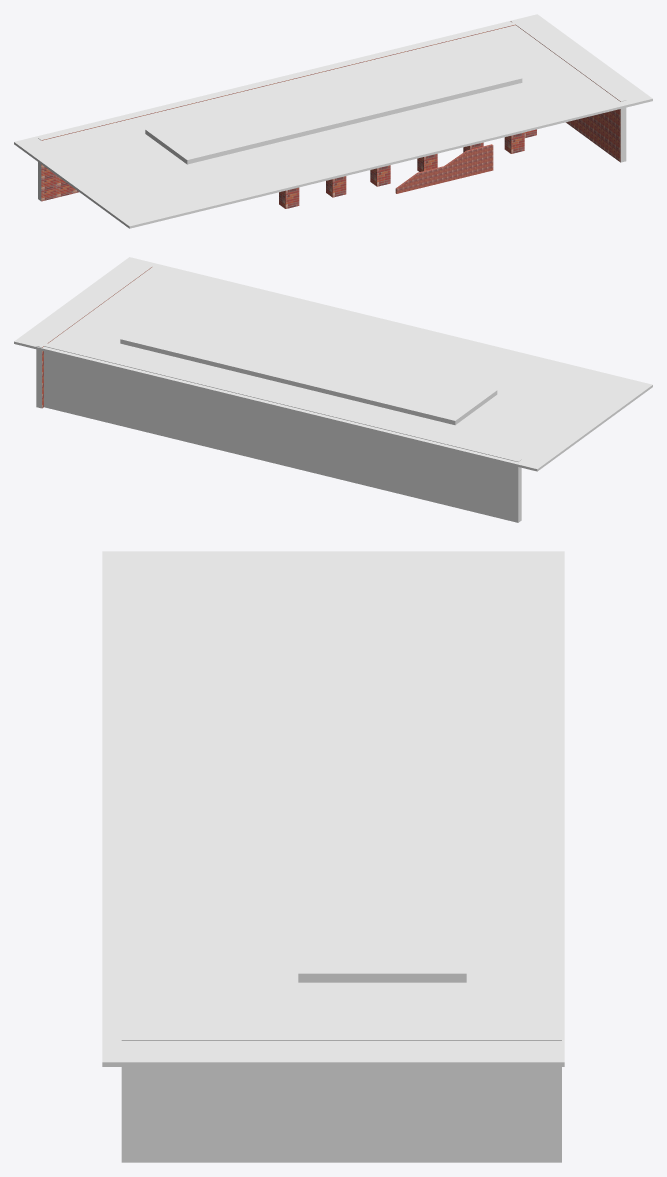
Rendered from pared1.obj.
3 views of the same model, one above another, from view 1: azimuth 30°, elevation 25°; view 2: azimuth 150°, elevation 25°; view 3: azimuth 270°, elevation 25° (orthographic). The views are drawn at different scales.
Parts seen in each view (by area): view 1: pCube18, pCube17, pCube13, pCube14, pPlane11, escenario:pPlane18 escenario:polySurface1 group polySurface8, escenario:pPlane17 escenario:polySurface1 group polySurface7, escenario:pPlane16 escenario:polySurface1 group polySurface6, escenario:pPlane13 escenario:polySurface1 group polySurface3; view 2: pCube18, pCube13, pCube17, pCube14; view 3: pCube18, pCube17, pCube14, pCube13.
Part boxes in pixels (box(x1,y1,x2,y2)): pCube18: box(14, 14, 652, 228); pCube17: box(145, 48, 522, 164); pCube13: box(38, 22, 515, 201); pCube14: box(510, 19, 626, 162); pPlane11: box(395, 144, 493, 193); escenario:pPlane18 escenario:polySurface1 group polySurface8: box(279, 187, 299, 208); escenario:pPlane17 escenario:polySurface1 group polySurface7: box(326, 176, 346, 197); escenario:pPlane16 escenario:polySurface1 group polySurface6: box(370, 165, 390, 186); escenario:pPlane13 escenario:polySurface1 group polySurface3: box(504, 132, 524, 153); pCube18: box(14, 257, 652, 471); pCube13: box(43, 343, 521, 522); pCube17: box(120, 308, 497, 425); pCube14: box(36, 265, 151, 408); pCube18: box(102, 551, 564, 1066); pCube17: box(298, 646, 466, 982); pCube14: box(121, 1034, 561, 1162); pCube13: box(541, 571, 554, 1035).
Size of the model in its own units: 22.53 by 2.68 by 8.61.
5 materials, 4 textured.
